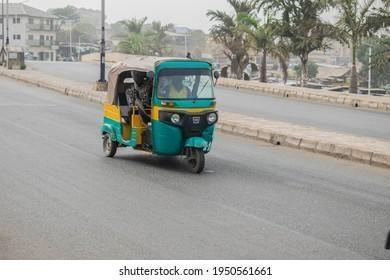keke: (106, 58, 222, 178)
